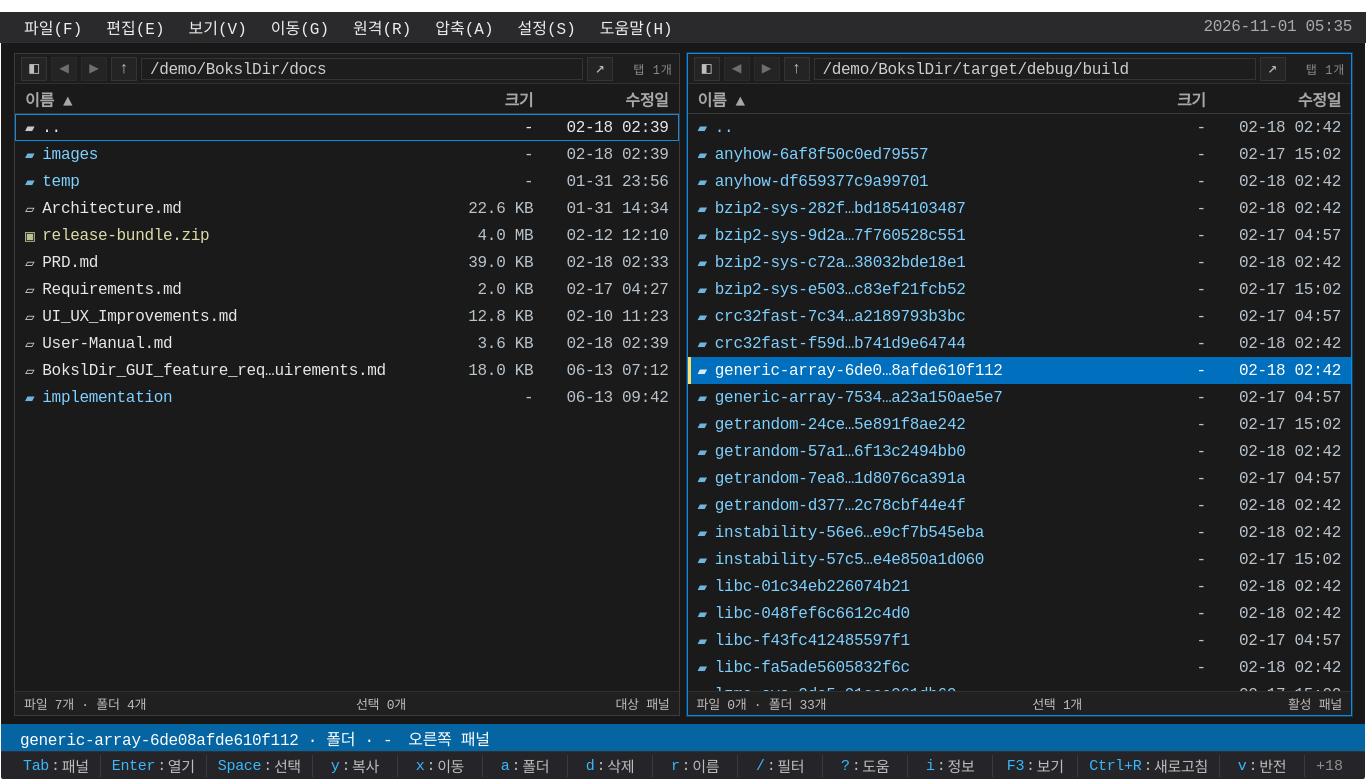
Test: CommanderShell drag › app-local pointer file dragging › cancels safely on Escape
The width and height of the screenshot is (1366, 780).
Press the mouse on the row with class "file-row" that starts with "generic-array-7534" at (798, 398), box [688,384,1351,411]
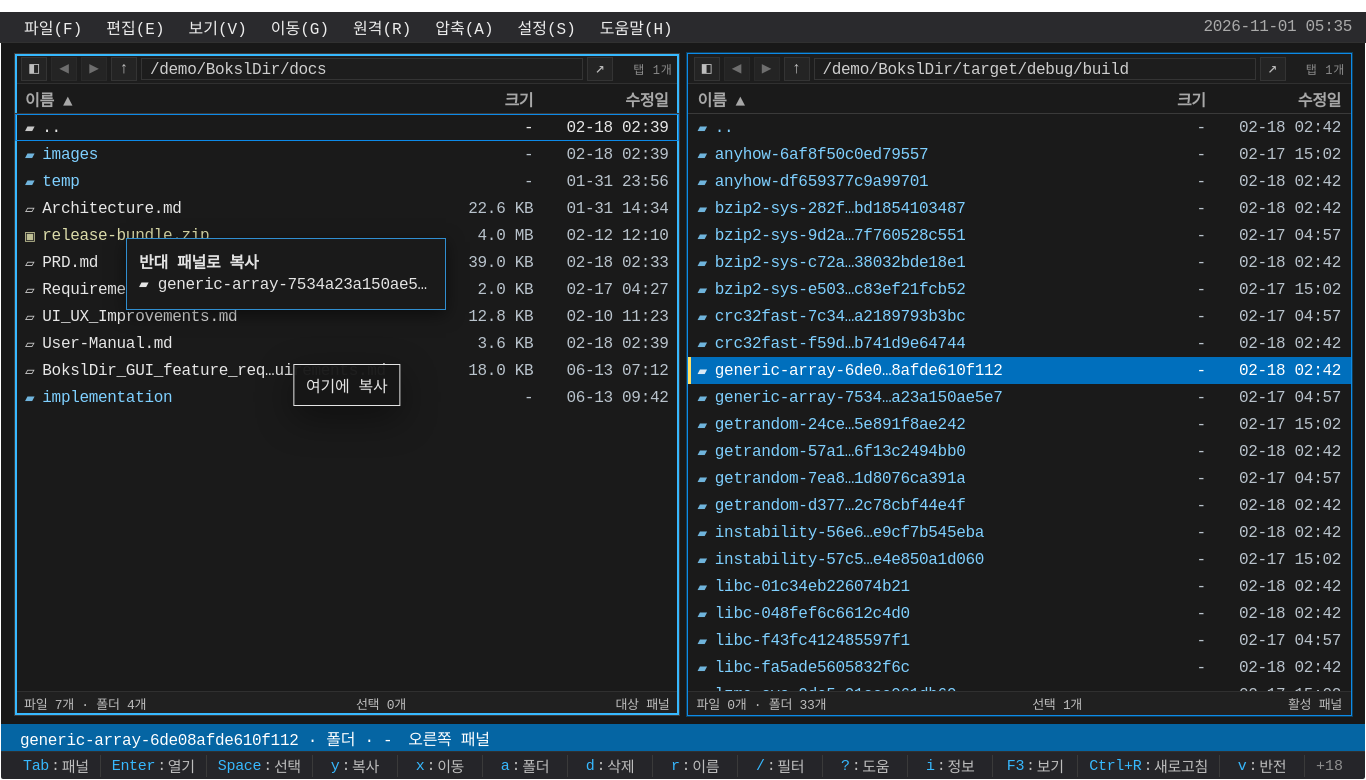
Press Escape
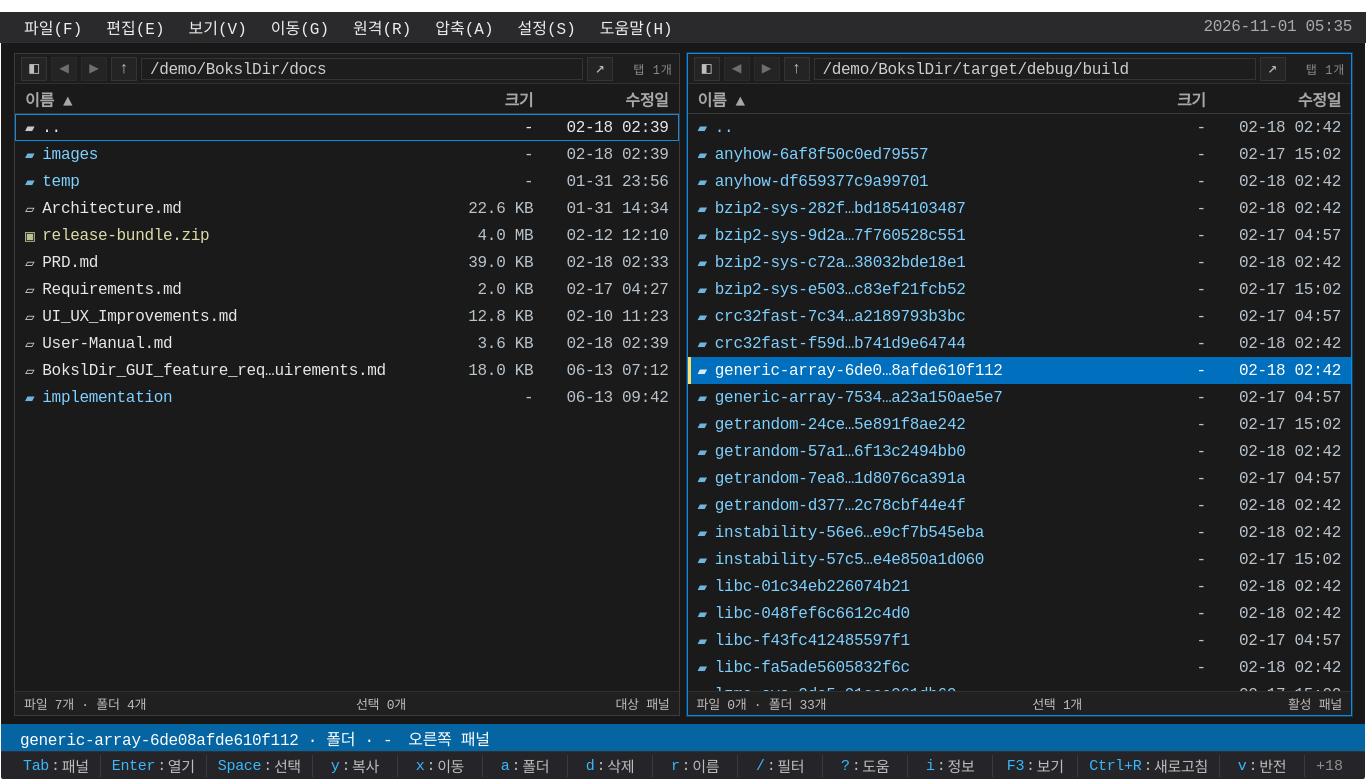
Result: the element with class "file-drag-preview" is gone
